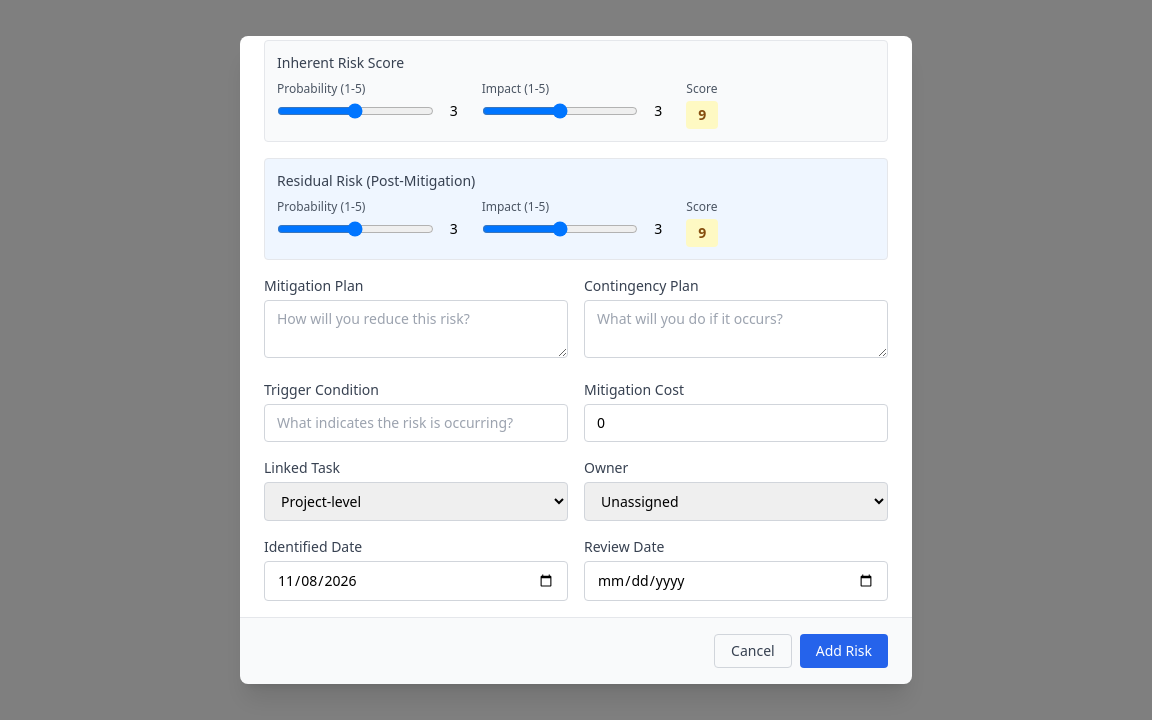
Test: RiskEditorModal › shows validation error for empty title
This screenshot has width=1152, height=720.
(page scrolled)
Click the button "Add Risk" at [844, 651], box [800, 634, 888, 668]
(page scrolled)
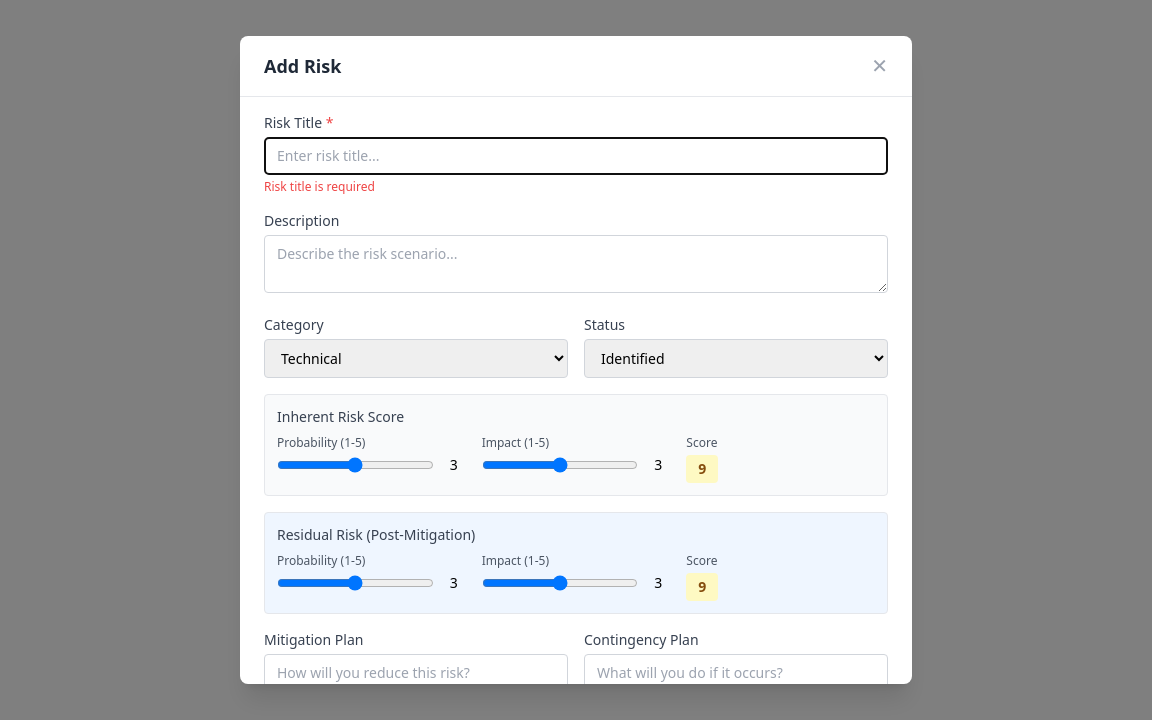
Check: the text "Risk title is required" is shown, box [264, 178, 375, 195]
